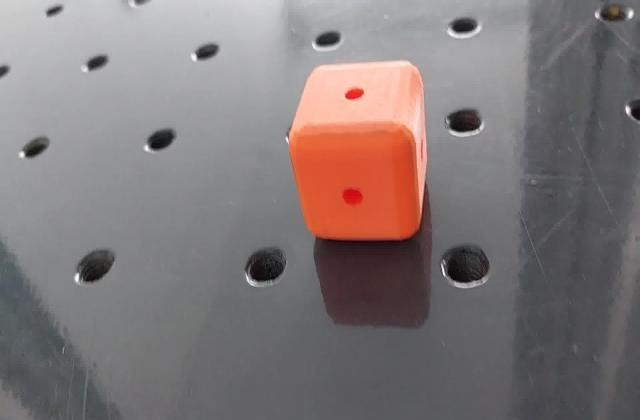cube: (284, 56, 432, 245)
